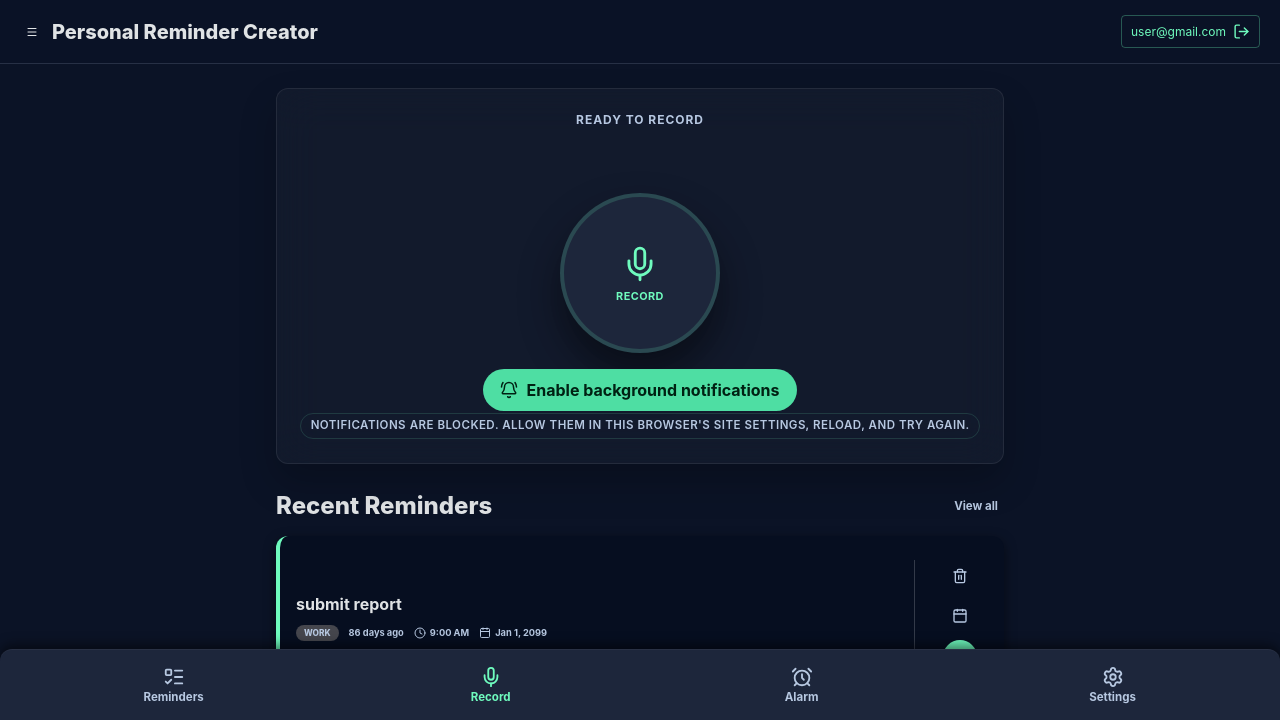
Test: App › deletes a reminder from the reminders screen
The width and height of the screenshot is (1280, 720).
Click the button "View all" at (976, 506), box [948,498,1004,514]
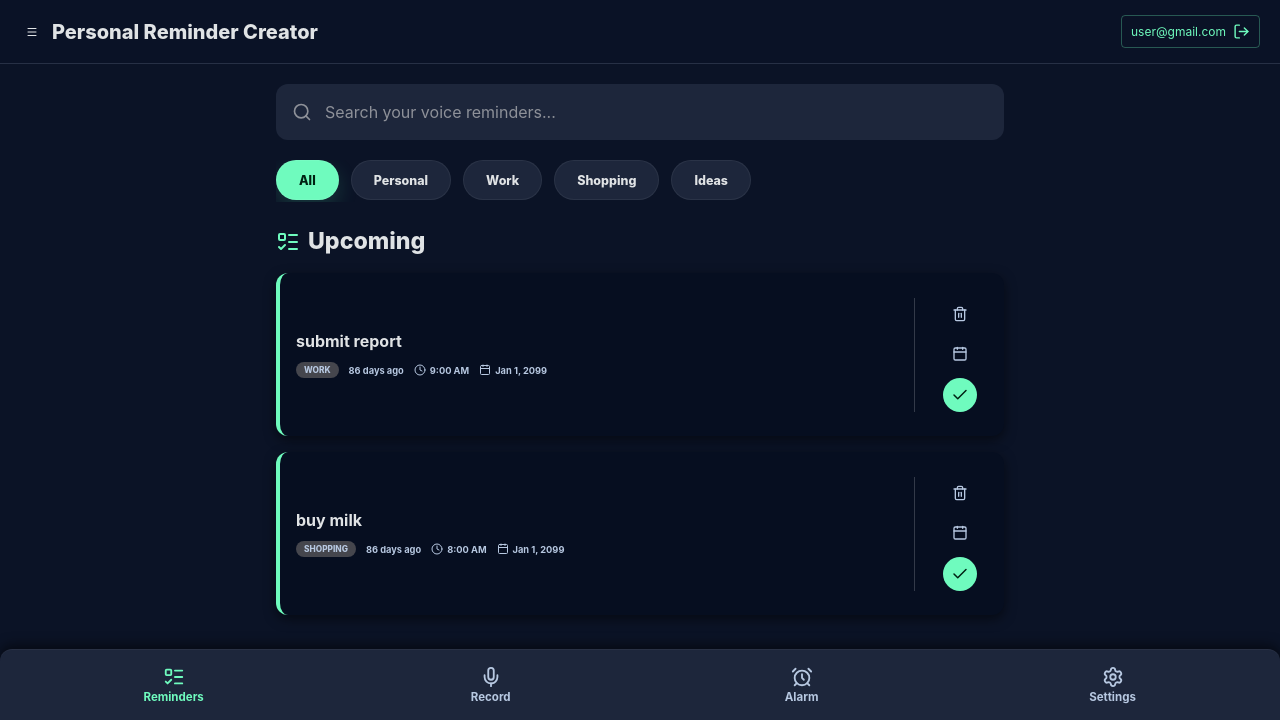
Expected: the text "submit report" is shown, [296,331,402,351]
Expected: the text "buy milk" is shown, [296,510,362,530]
Click the button named "delete submit report" at (960, 314), box [944,298,976,330]
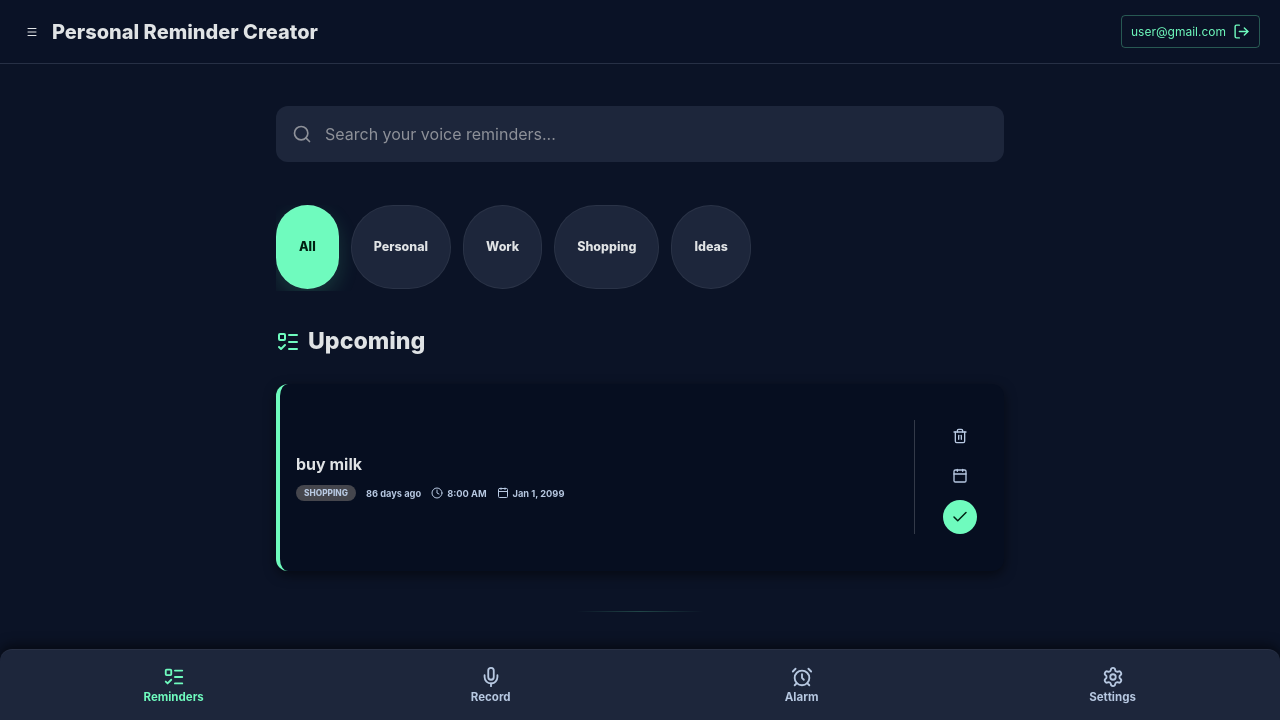
Expected: the text "buy milk" is shown, [296,454,362,474]
Result: the text "submit report" is gone
